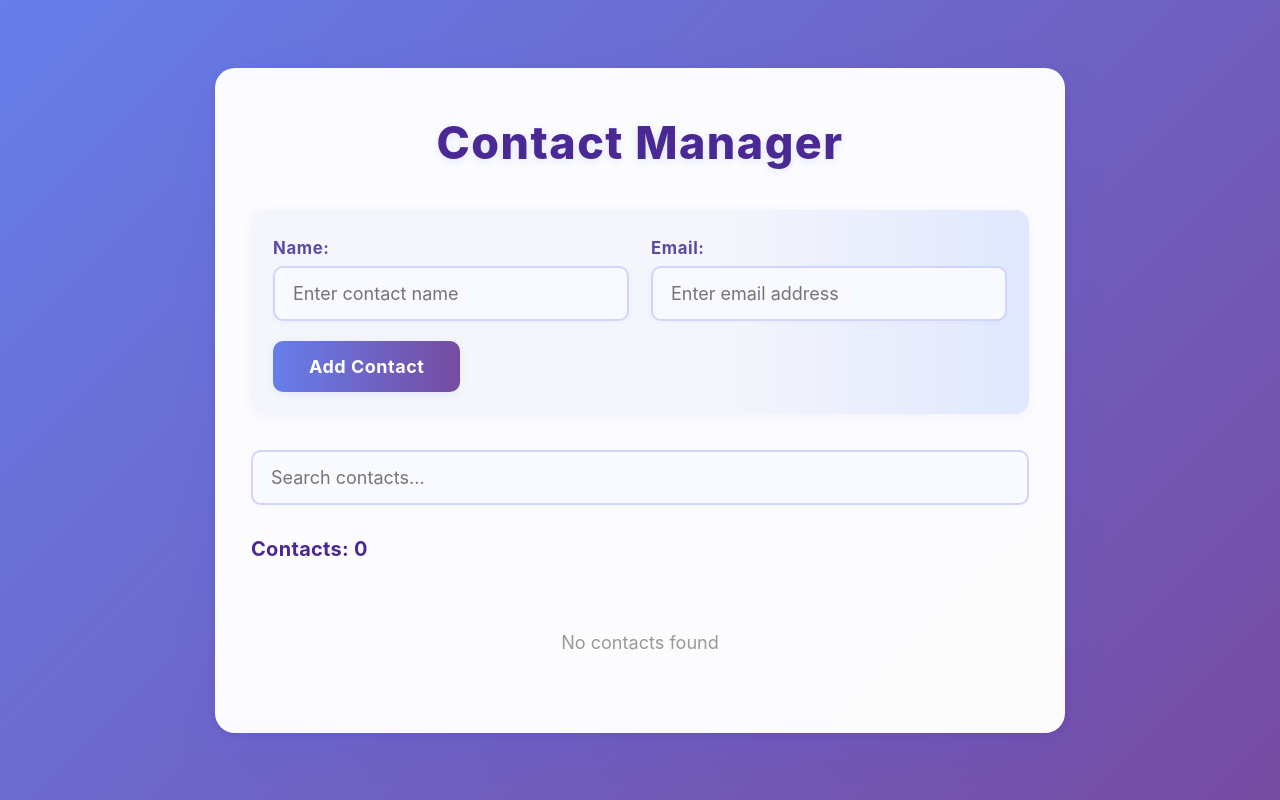
Contact Manager App - Complete Tests › Form Validation › shows real-time validation error for invalid name
The image size is (1280, 800).
// Type invalid name with numbers
In the field labelled "Name:": [451, 294] box [273,266,629,321], type "John123"
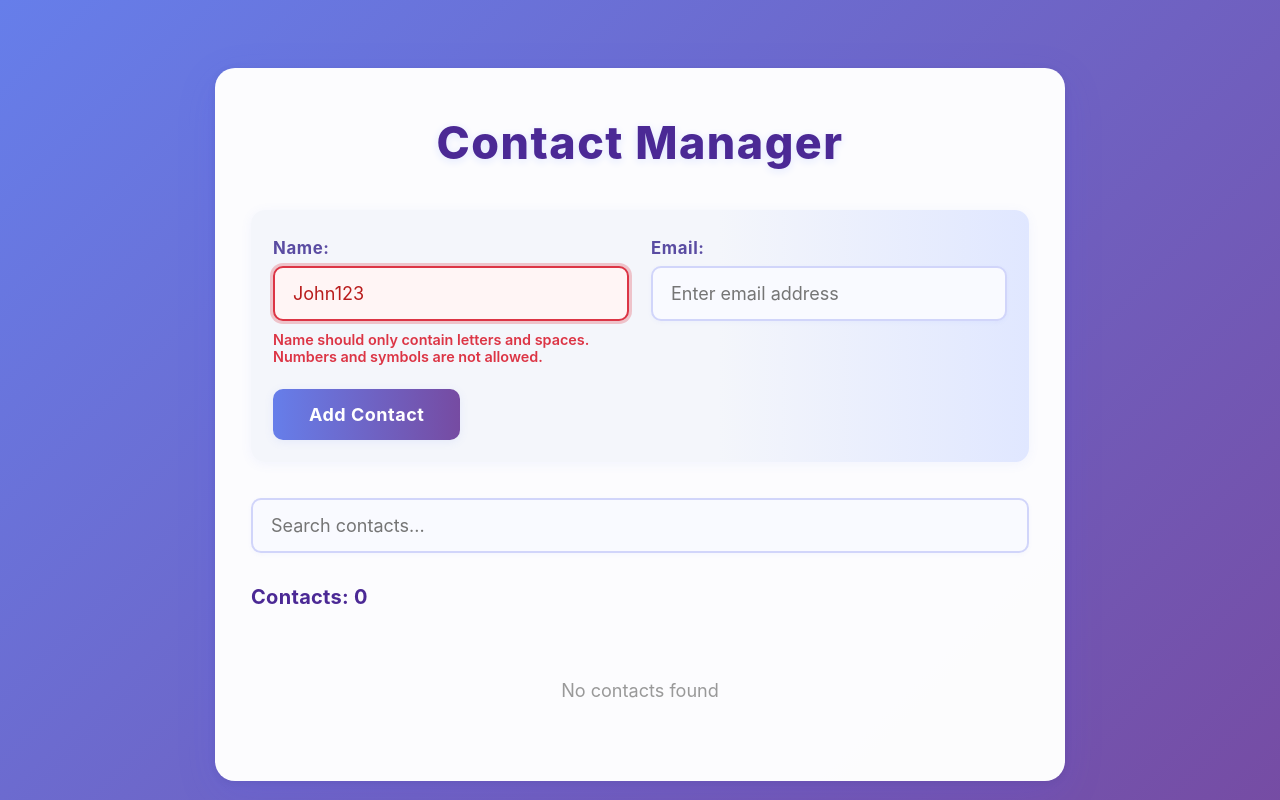
Expected: the text "Name should only contain letters and spaces. Numbers and symbols are not allowed." is shown, [273,331,589,365]
